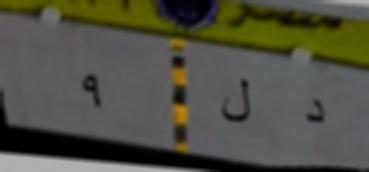9: (78, 66, 106, 113)
daal: (302, 88, 328, 131)
laam: (219, 74, 254, 130)
